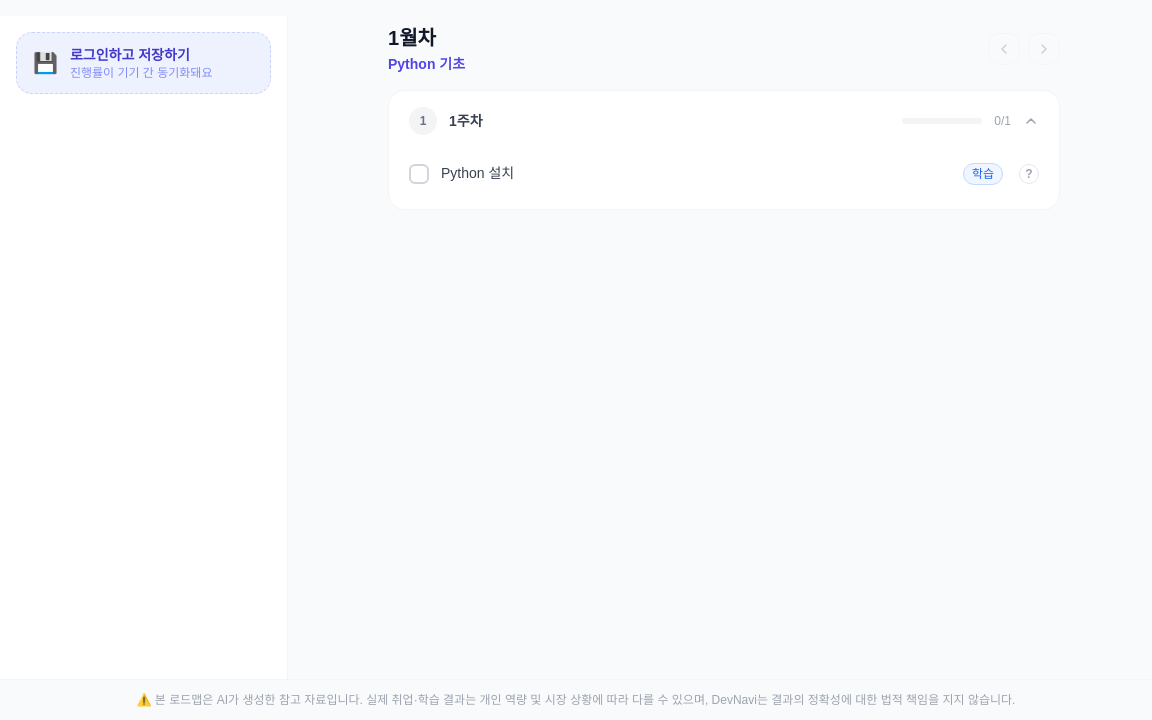
Scenario: F4: 태스크 완료 피드백 토스트 — 통합 › 태스크 체크 시 완료 토스트 메시지가 나타남
Expected: the text "Python 설치" is shown, [441,165,514,181]
Click the checkbox. click: x=419, y=174
box: [409,164,429,184]
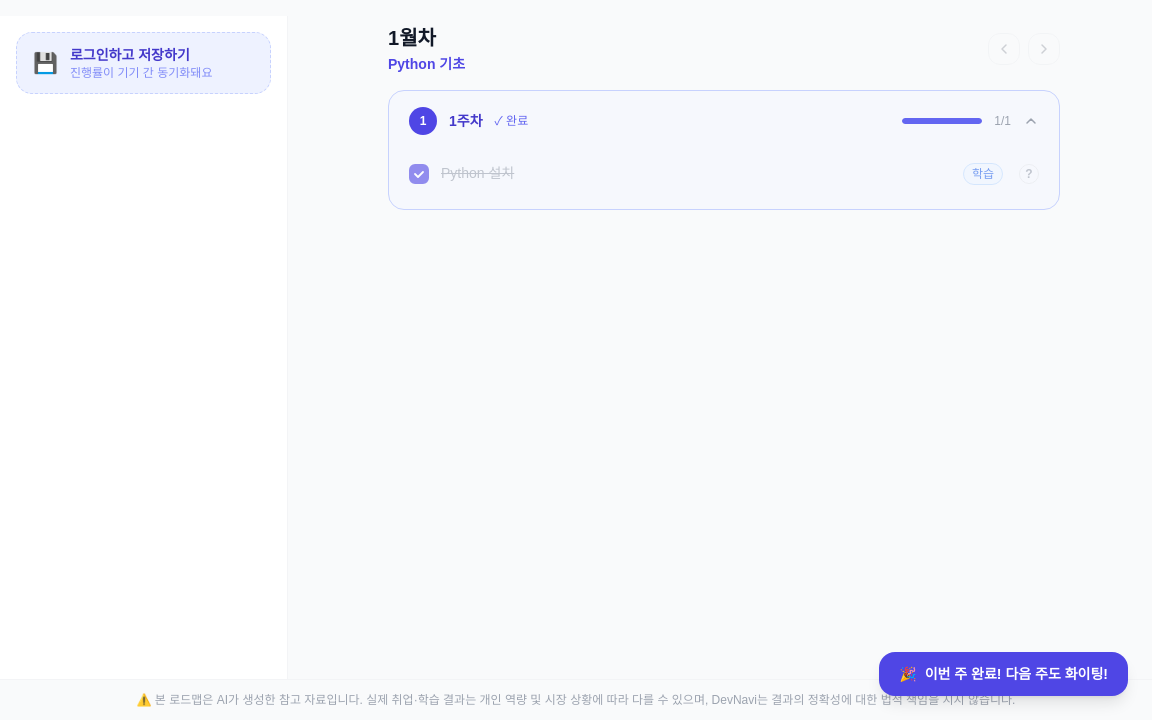
Now the text "이번 주 완료! 다음 주도 화이팅!" is shown, box [925,664,1108,684]
